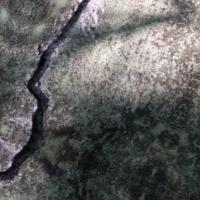crack: (0, 1, 103, 188)
